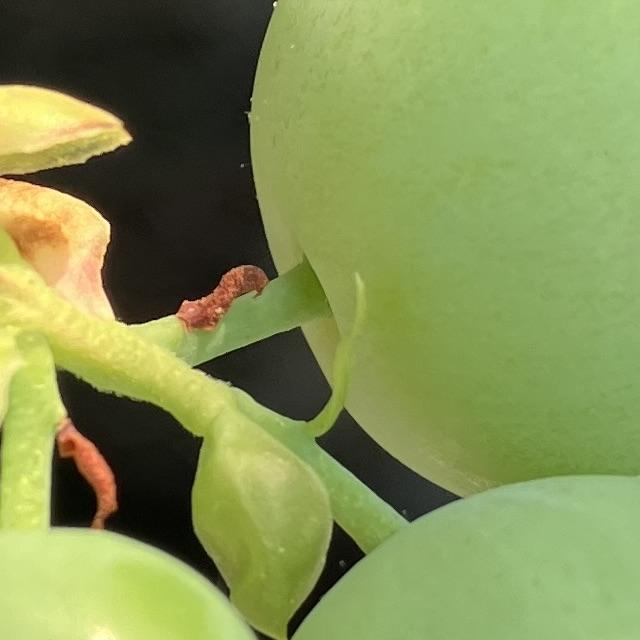Blueberries: (244, 0, 640, 502)
